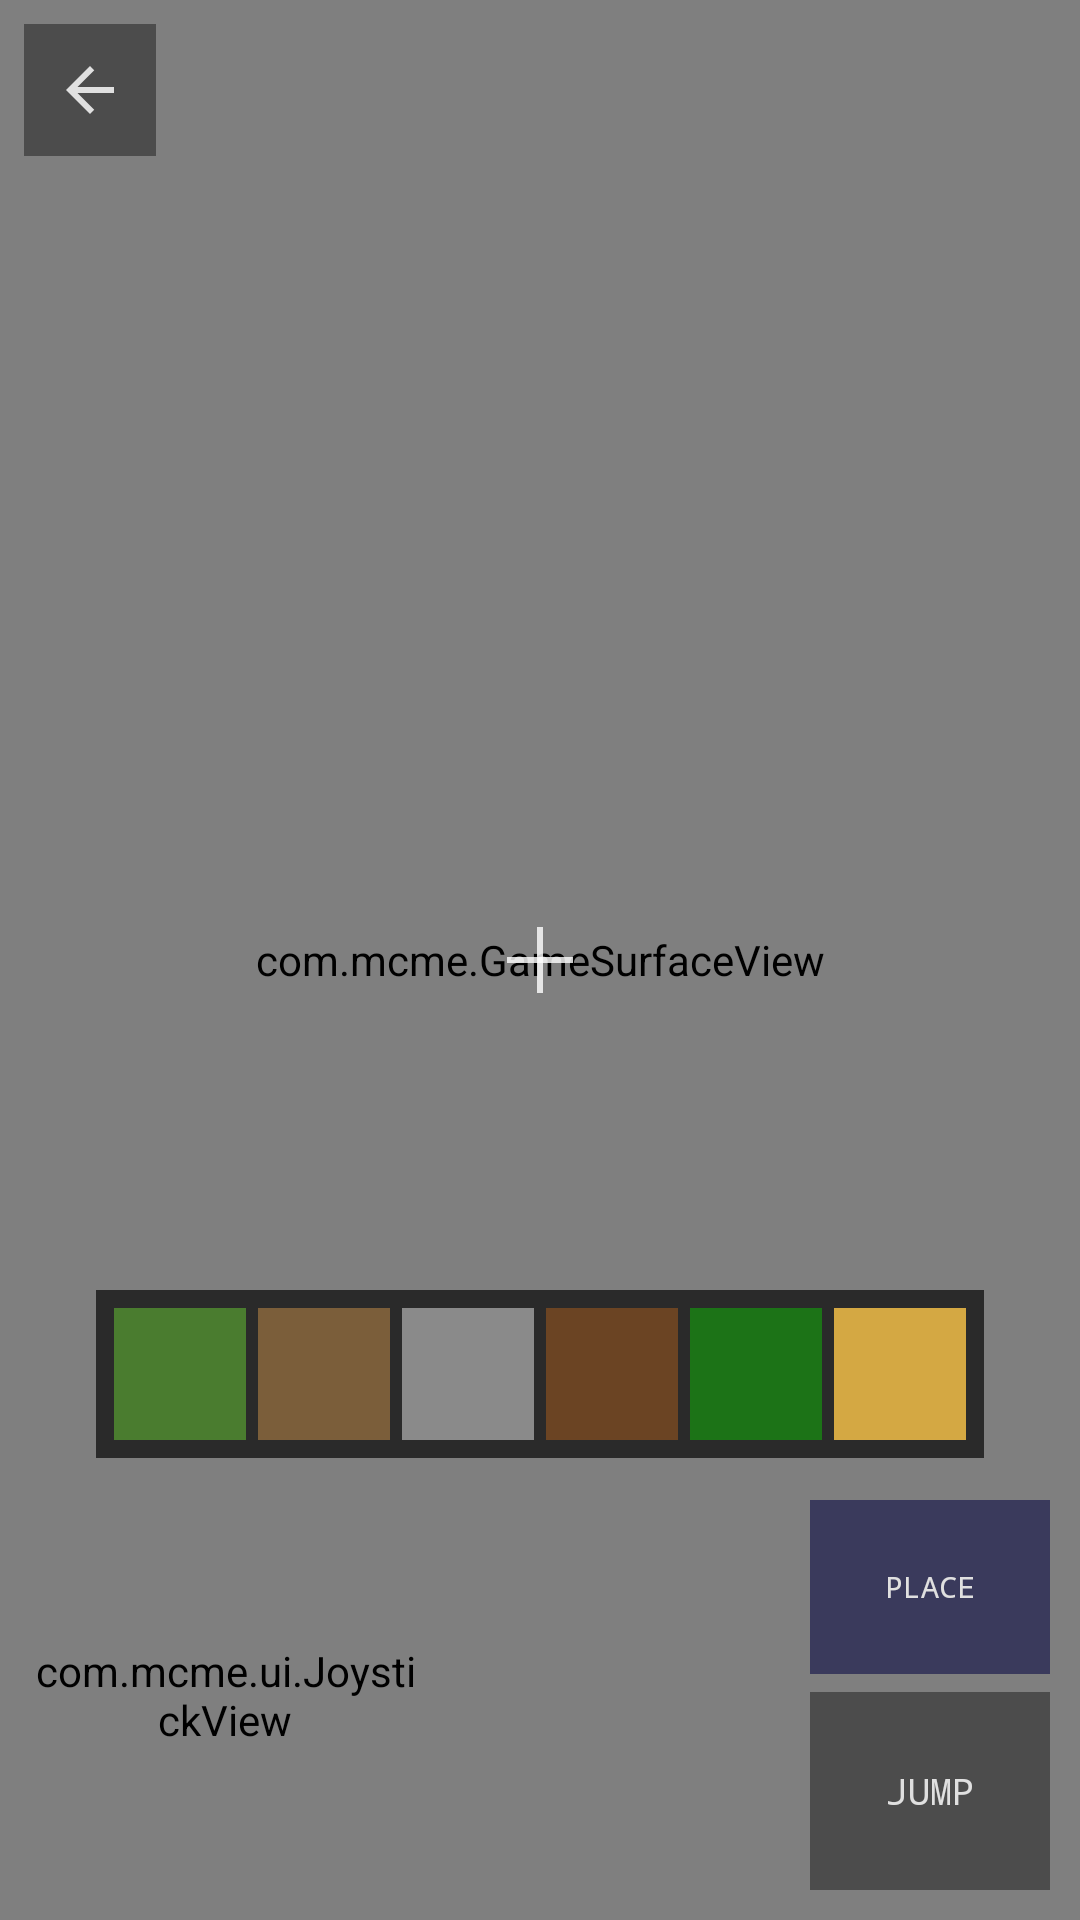

Screen size 1080*1920. Icon name, then its box in pixels as [x1,y1,x2,y2]:
Back: [24,24,156,156]
